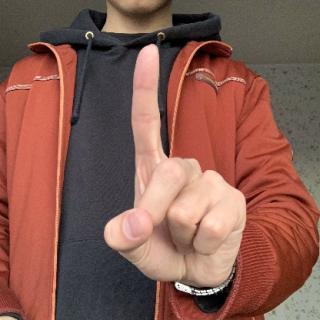BAA: (98, 40, 248, 298)
